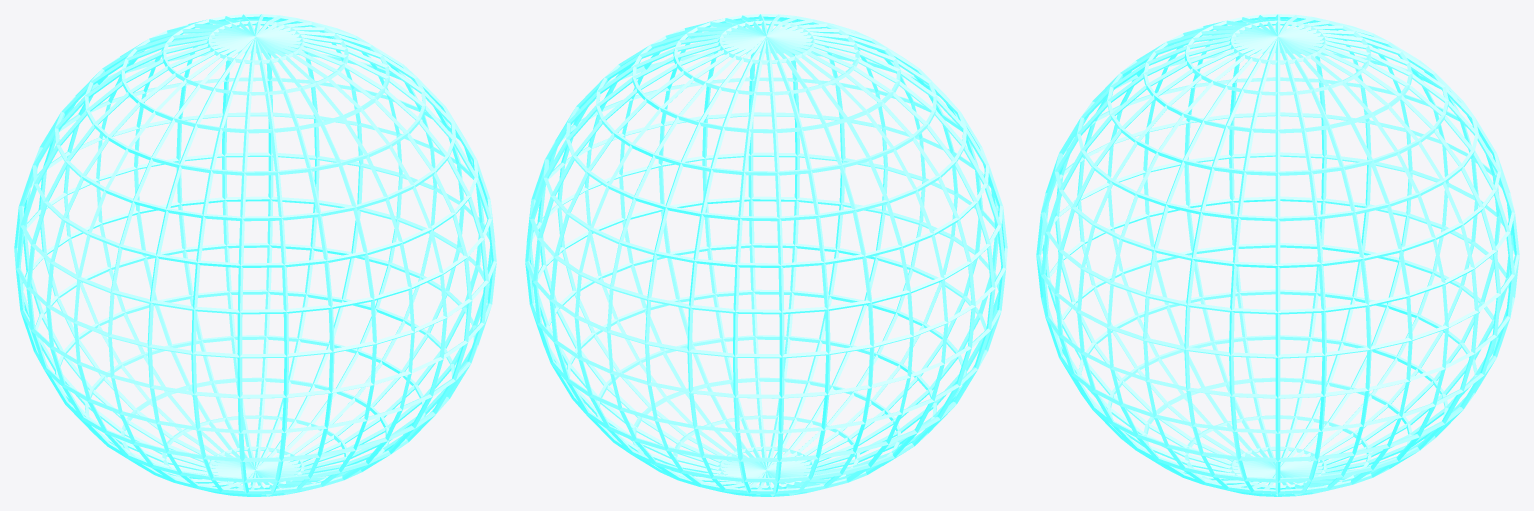
The model's file is globe.gltf.
The picture shows the model from 3 angles, left to right: view 1: azimuth 30°, elevation 25°; view 2: azimuth 150°, elevation 25°; view 3: azimuth 270°, elevation 25°; orthographic projection.
Parts seen in each view (by area): view 1: Object_2; view 2: Object_2; view 3: Object_2.
Part boxes in pixels (x1,y1,x2,y2): Object_2: (14, 14, 496, 496); Object_2: (525, 14, 1007, 496); Object_2: (1036, 14, 1519, 496).
Size of the model in its own units: 101 by 101 by 101.
